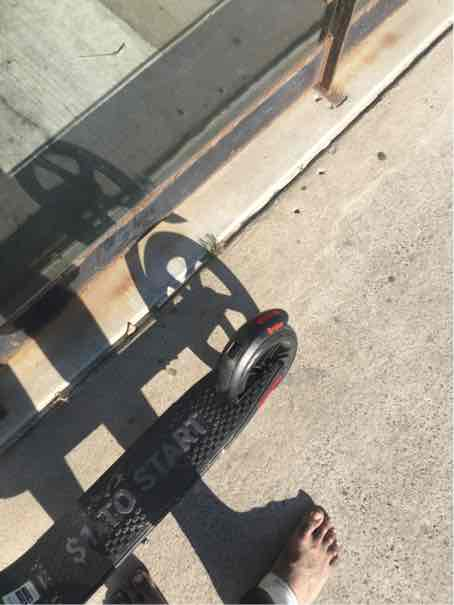scooter: (5, 41, 303, 605)
